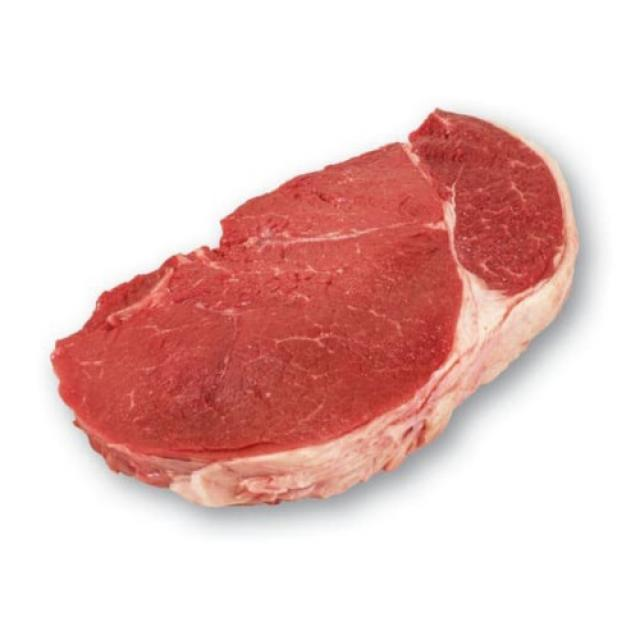beef: (45, 95, 608, 530)
